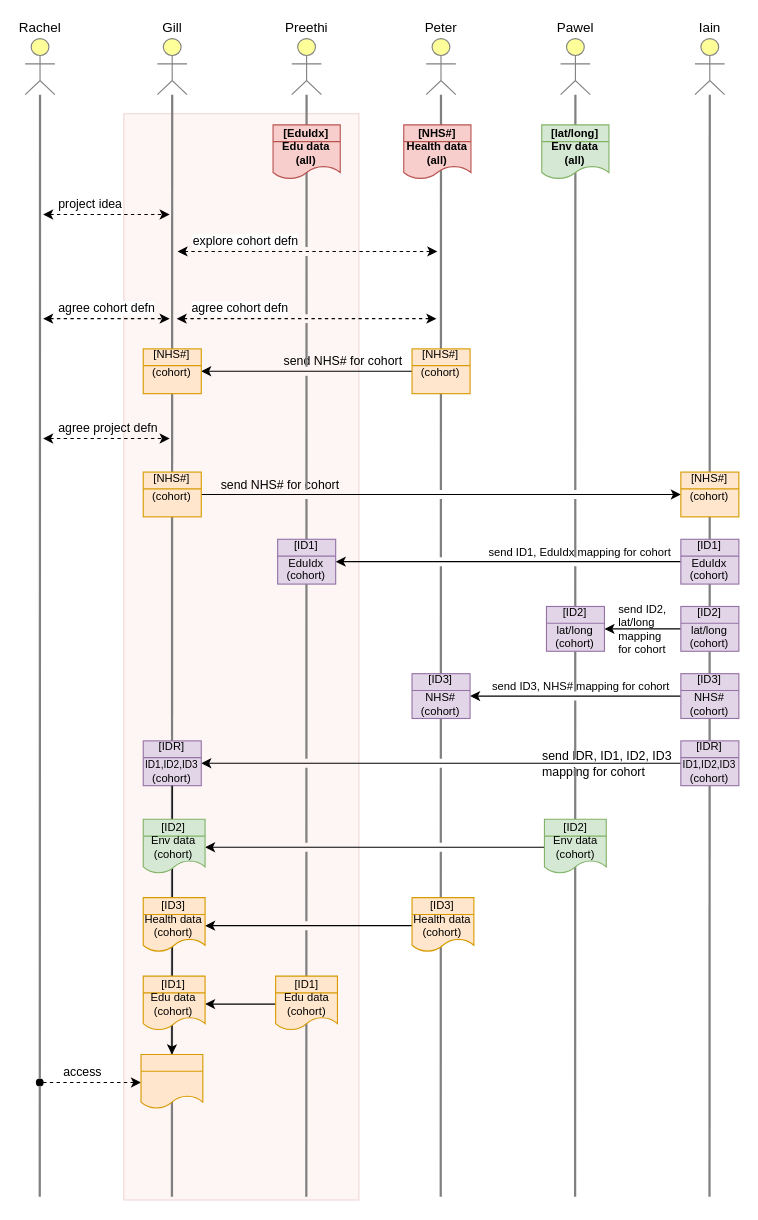
The diagram is 758 pixels wide and 1220 high, and some of its shapes have lost their labels. Each missing label, with the box of its shape:
[IDR] Linked data (cohort): (140, 1053, 203, 1110)
TRE: (123, 113, 359, 1200)
